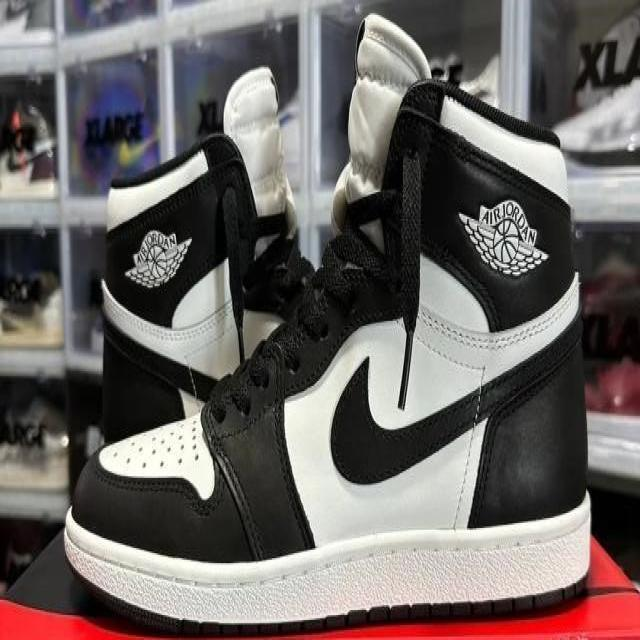J1_InsoleChar: (60, 13, 594, 633)
J1_MateComp: (98, 130, 259, 445), (220, 64, 314, 355)
J1_ShoeLogo: (457, 197, 550, 278), (0, 98, 56, 195), (123, 227, 192, 289)
J1_StitchPattern: (93, 273, 583, 500), (62, 519, 593, 632), (95, 576, 590, 635), (390, 80, 441, 410), (415, 272, 583, 366), (329, 577, 588, 628), (198, 403, 270, 561), (448, 364, 490, 532), (102, 416, 207, 474), (123, 428, 198, 468), (187, 415, 203, 465)
